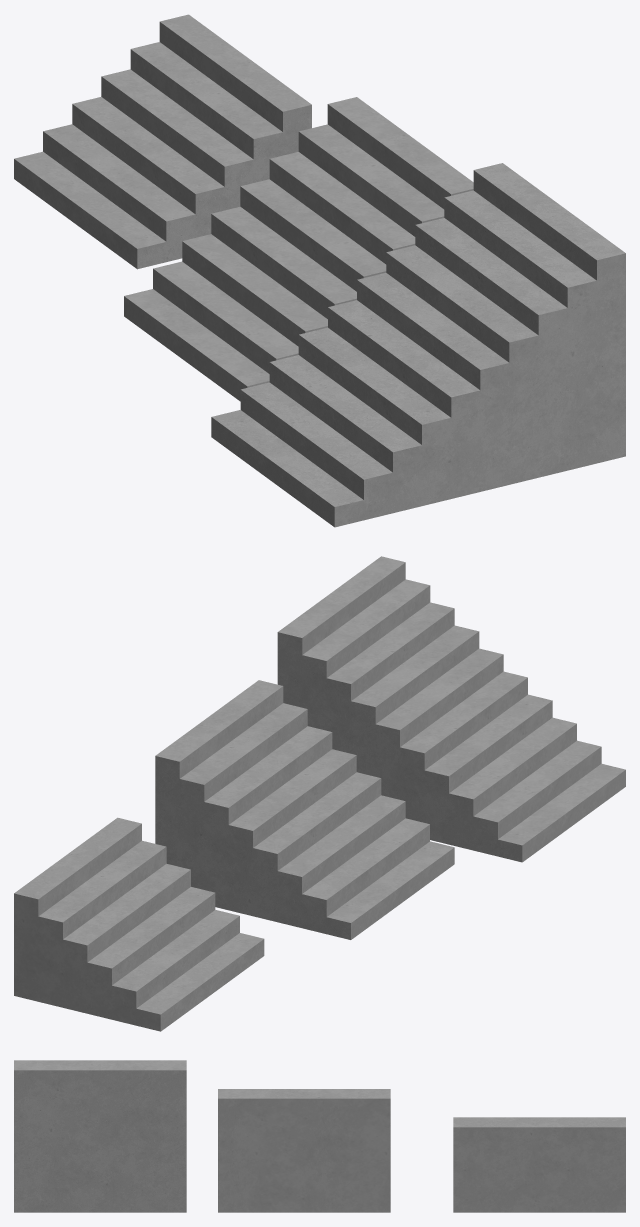
File: BetterStairs.fbx
3 views of the same model, one above another, from view 1: azimuth 30°, elevation 25°; view 2: azimuth 150°, elevation 25°; view 3: azimuth 270°, elevation 25° (orthographic). The views are drawn at different scales.
Visible parts, largest first — view 1: BetterBigStairs, BetterStairs, BetterSmallStairs; view 2: BetterBigStairs, BetterStairs, BetterSmallStairs; view 3: BetterBigStairs, BetterStairs, BetterSmallStairs.
Boxes of the visible parts, left/top/right/bottom form: BetterBigStairs: left=211, top=163, right=625, bottom=527; BetterStairs: left=124, top=97, right=473, bottom=401; BetterSmallStairs: left=14, top=14, right=311, bottom=269; BetterBigStairs: left=277, top=556, right=625, bottom=862; BetterStairs: left=155, top=680, right=454, bottom=939; BetterSmallStairs: left=14, top=817, right=264, bottom=1031; BetterBigStairs: left=14, top=1060, right=186, bottom=1212; BetterStairs: left=218, top=1089, right=390, bottom=1212; BetterSmallStairs: left=453, top=1117, right=625, bottom=1212.
Size of the model in its own units: 3 by 2 by 7.8.
